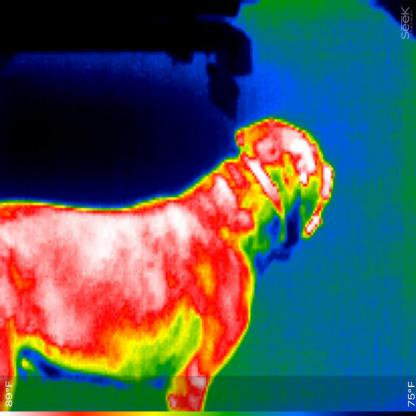dog: (0, 112, 343, 410)
